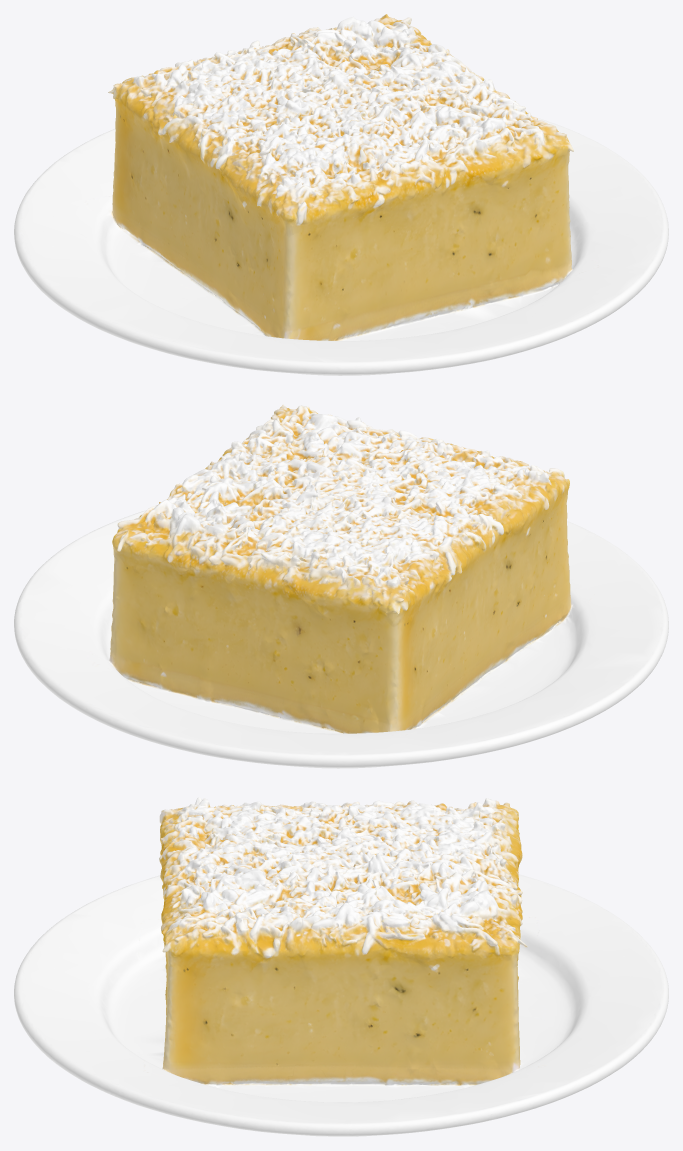
The model's file is Poudine Maïs.glb.
3 views of the same model, one above another, from view 1: azimuth 30°, elevation 25°; view 2: azimuth 150°, elevation 25°; view 3: azimuth 270°, elevation 25° (orthographic).
Parts seen in each view (by area): view 1: Mesh_0; view 2: Mesh_0; view 3: Mesh_0.
Boxes of the visible parts, x1,y1,x2,y2 form: Mesh_0: (14,14,668,375); Mesh_0: (14,404,668,768); Mesh_0: (14,797,668,1136).
Bounding box in the file's own units: 0.12 × 0.04 × 0.12.
Materials: 1 (1 with a texture image).
